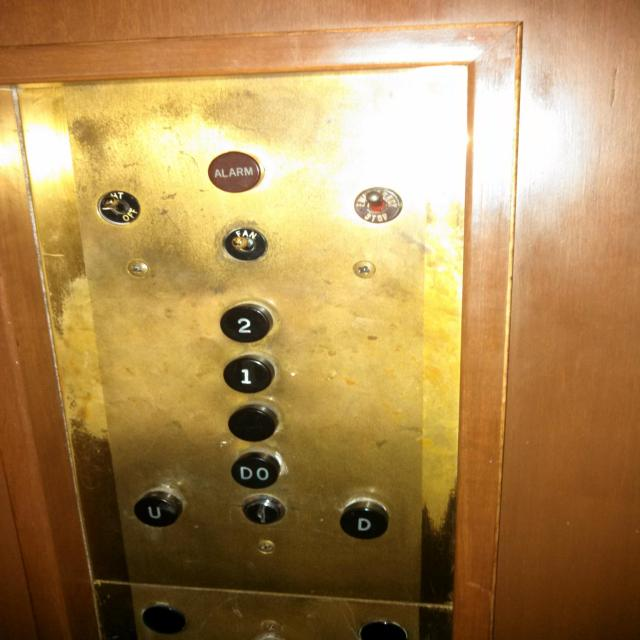1: (220, 350, 277, 396)
2: (216, 299, 278, 346)
D: (336, 495, 392, 543)
DO: (228, 449, 282, 491)
U: (130, 487, 185, 529)
empty: (224, 401, 279, 444)
keyhole: (237, 491, 288, 527)
switch: (349, 184, 405, 228), (220, 222, 270, 264), (93, 186, 142, 228)
text: (204, 147, 264, 195)
